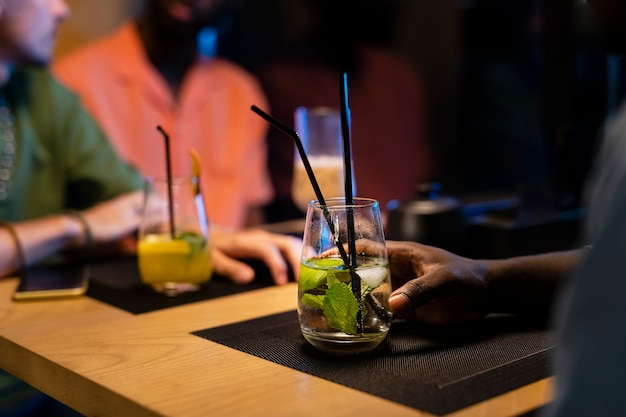alcohol: (295, 188, 395, 350), (141, 174, 216, 301), (289, 103, 356, 236)
